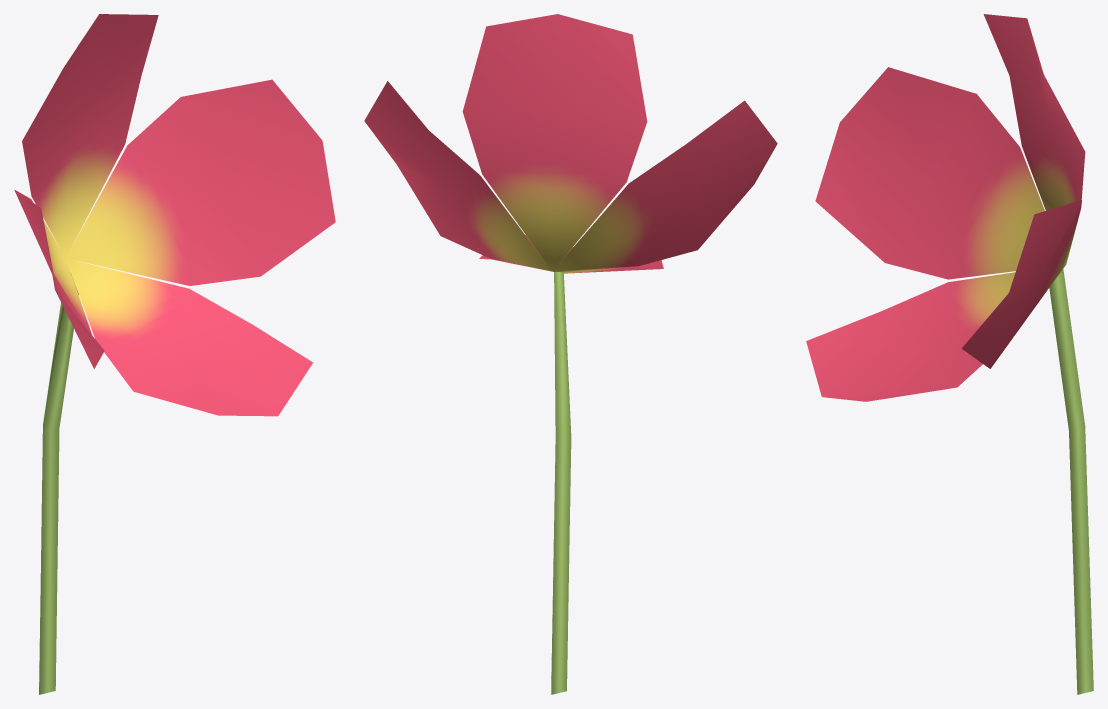
The model's file is flower3.fbx.
3 renders of one model, left to right at view 1: azimuth 30°, elevation 25°; view 2: azimuth 150°, elevation 25°; view 3: azimuth 270°, elevation 25°, orthographic. The views are drawn at different scales.
Visible parts, largest first — view 1: Flower_c_TwoS_01; view 2: Flower_c_TwoS_01; view 3: Flower_c_TwoS_01.
Part boxes in pixels (left/top/right/bottom): Flower_c_TwoS_01: left=14, top=14, right=335, bottom=694; Flower_c_TwoS_01: left=364, top=14, right=777, bottom=694; Flower_c_TwoS_01: left=806, top=14, right=1093, bottom=694.
Bounding box in the file's own units: 18.26 × 25.68 × 48.01.
1 material, 1 textured.
